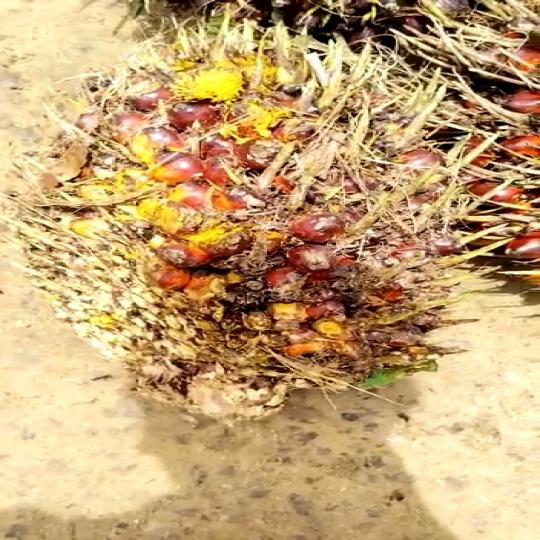masak: (26, 26, 471, 441)
